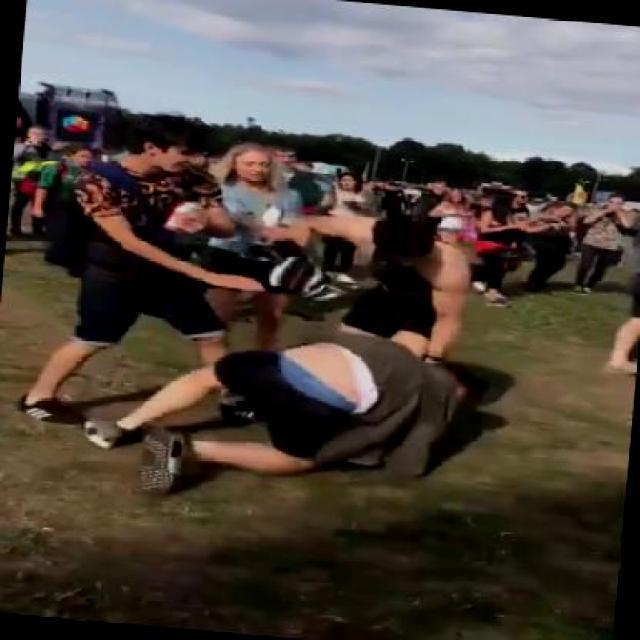fight: (224, 196, 487, 489)
non-fight: (58, 103, 245, 360)
